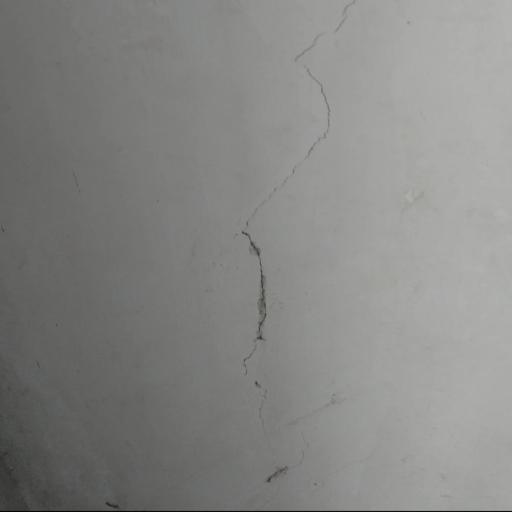minor_crack: (236, 2, 381, 486)
